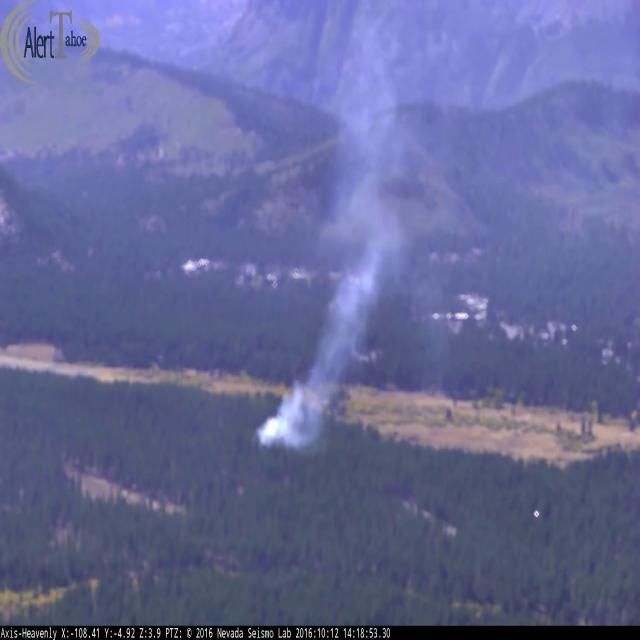smoke: (246, 14, 437, 468)
